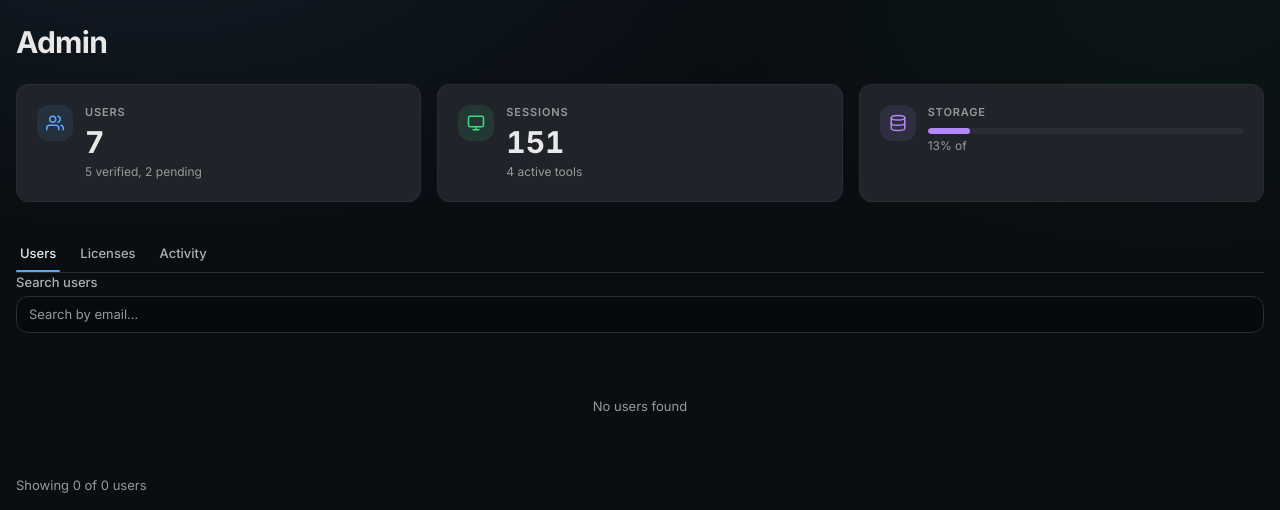
Scenario: AdminDashboard › switching to the Activity tab renders the activity panel
Click the tab "Activity". click: click(183, 253)
box: [156,234,211,272]
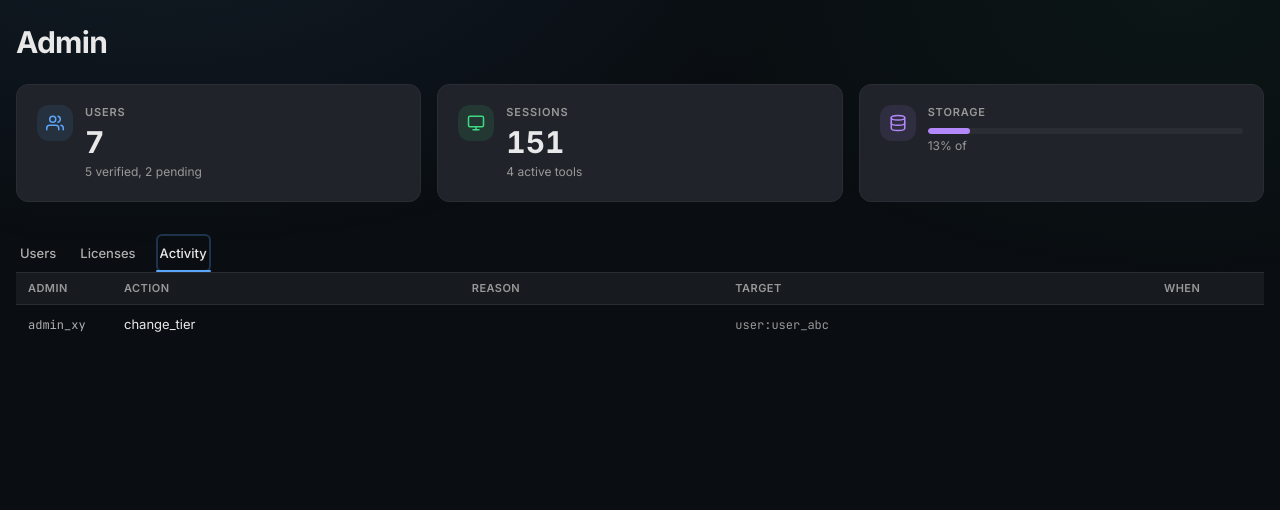
Now the text "change_tier" is shown, box [124,316,196,332]
